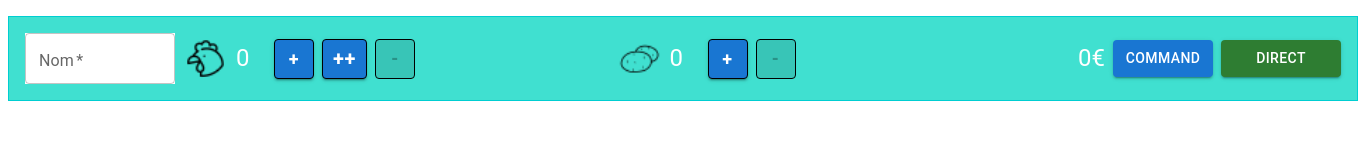
OrderForm › shows notification on form validation error
Click the button "Command" at (1163, 59), box [1113, 40, 1213, 77]
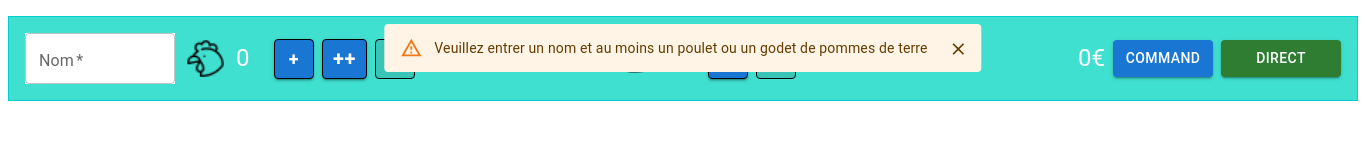
Check: the text "Veuillez entrer un nom et au moins un poulet" is shown, box [434, 40, 928, 56]
